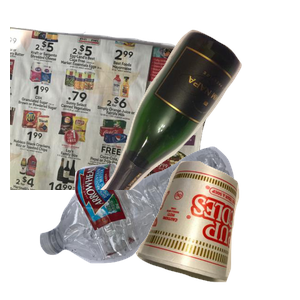glass: (87, 27, 300, 207)
paper: (10, 22, 225, 202)
plastic: (37, 144, 265, 300)
trash: (133, 158, 300, 300)
